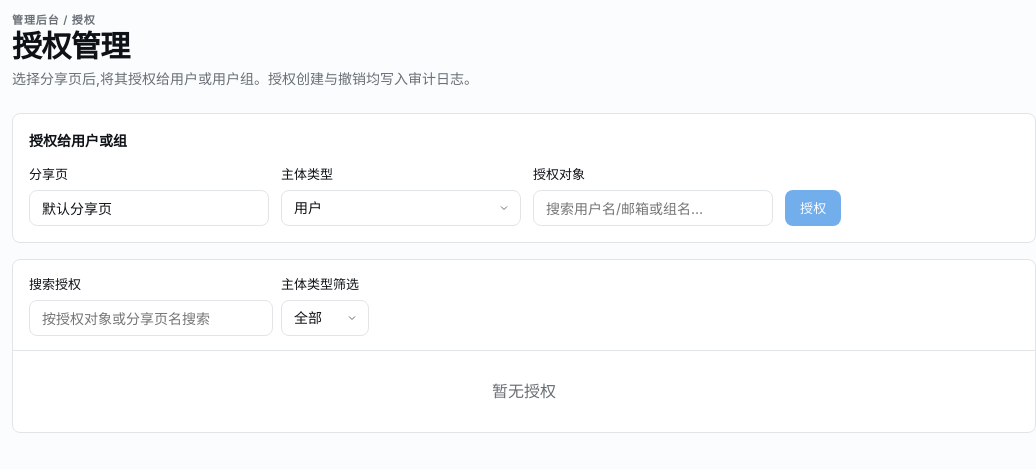
GrantsAdminPage › 授权给用户 — 选择 subject_type=user + user1,提交后调 POST grants
Expected: the text "暂无授权" is shown, x1=492 y1=381 x2=556 y2=401
Select "用户" in the dropdown labelled "主体类型" at (401, 208), box x1=281 y1=190 x2=521 y2=226
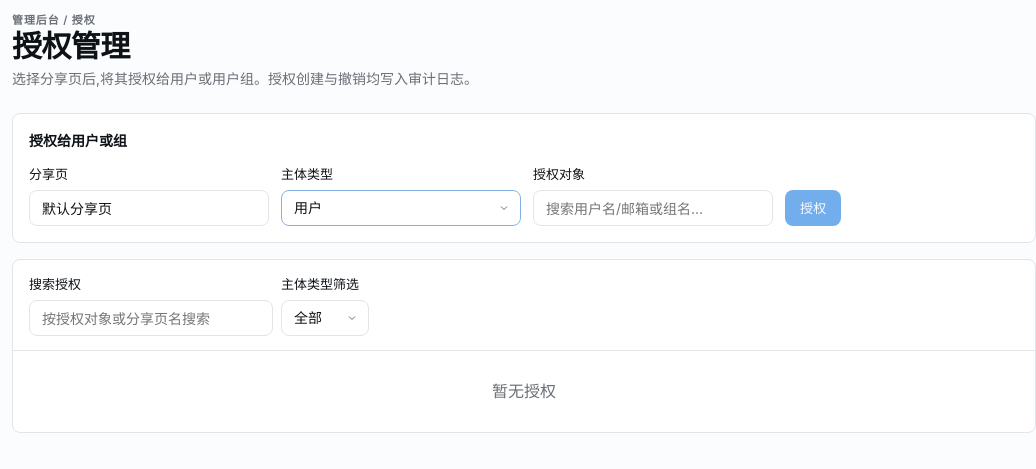
Type "user1@" into the dropdown labelled "授权对象".
click(653, 208); type("user1@")  # box x1=533 y1=190 x2=773 y2=226
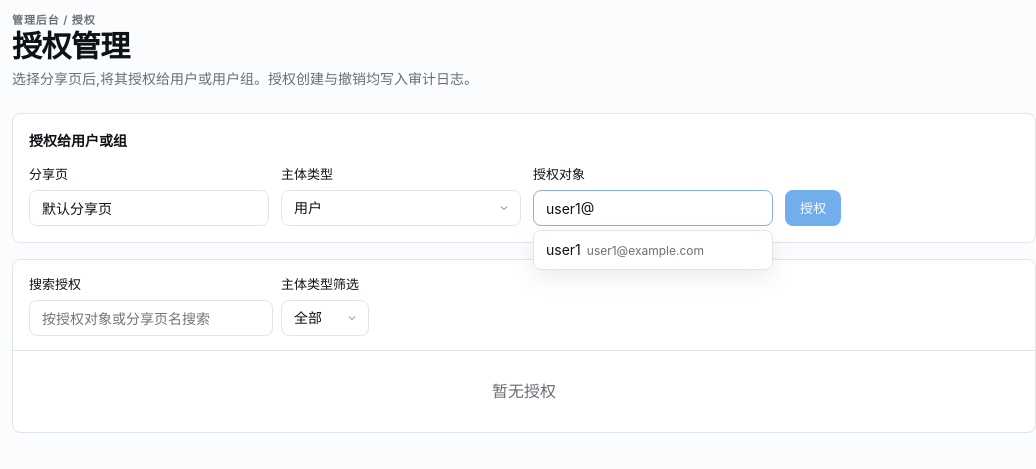
Click the option "user1 user1@example.com".
click(625, 250)  # box x1=546 y1=241 x2=704 y2=258
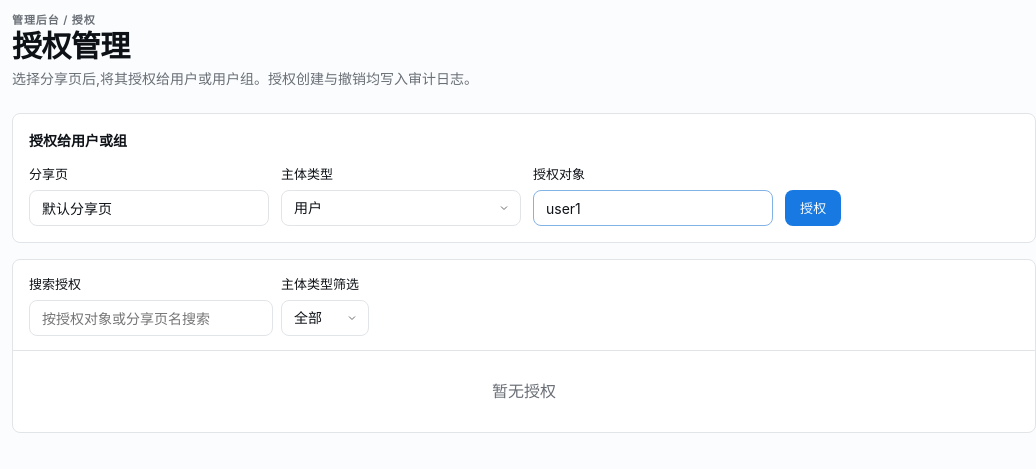
Click the button "授权".
click(813, 208)  # box x1=785 y1=190 x2=841 y2=226
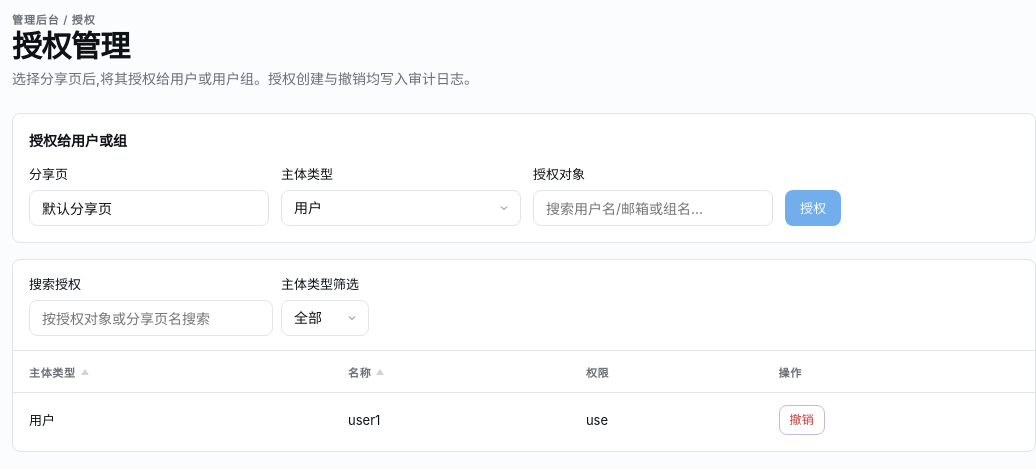
Expected: the text "user1" is shown, x1=332 y1=393 x2=570 y2=447
